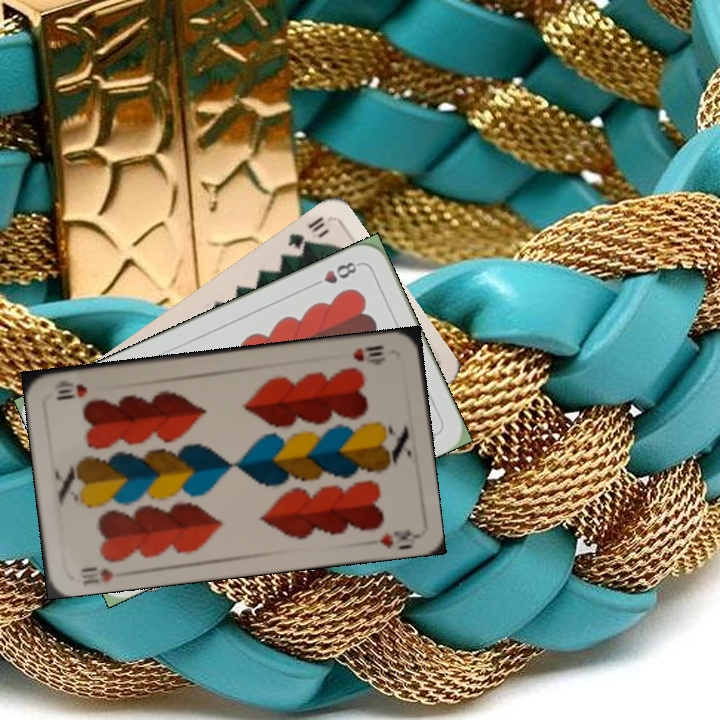G10: (283, 212, 328, 253)
H10: (74, 562, 116, 587), (349, 341, 388, 366)
H8: (307, 257, 363, 290)
